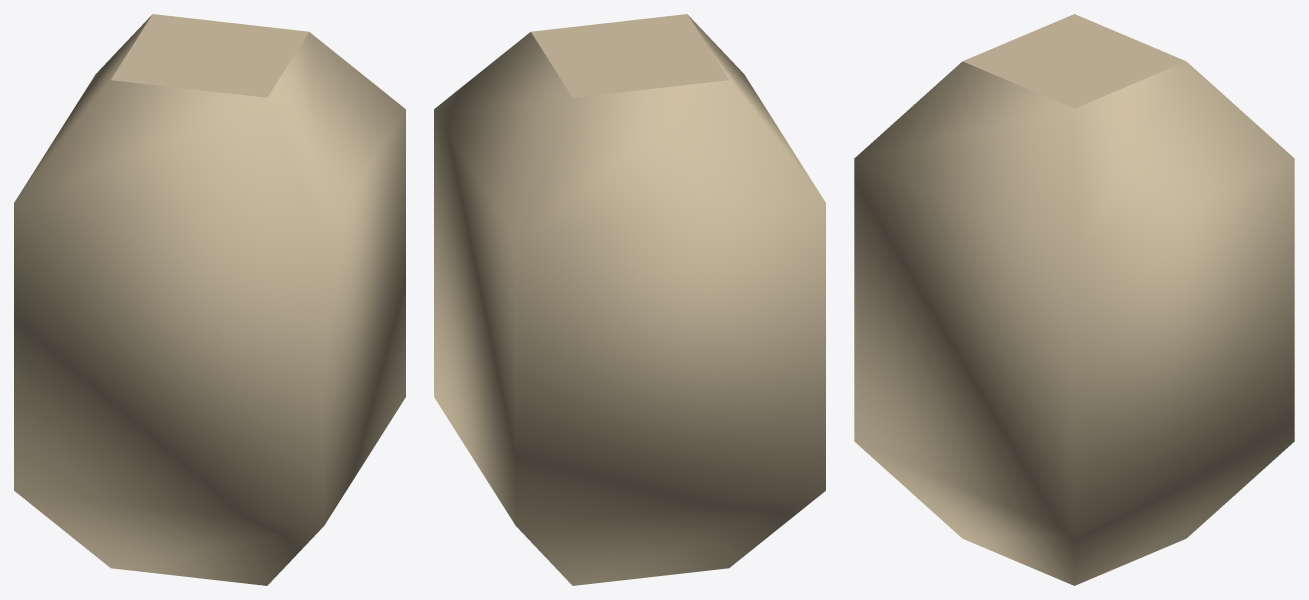
Rendered from t200_water.obj.
The picture shows the model from 3 angles, left to right: view 1: azimuth 30°, elevation 25°; view 2: azimuth 150°, elevation 25°; view 3: azimuth 270°, elevation 25°; orthographic projection. The views are drawn at different scales.
Visible parts, largest first — view 1: t200_water; view 2: t200_water; view 3: t200_water.
Boxes of the visible parts, x1,y1,x2,y2 form: t200_water: (14,14,405,585); t200_water: (434,14,825,585); t200_water: (854,14,1294,585).
Size of the model in its own units: 2.24 by 2.68 by 2.24.
